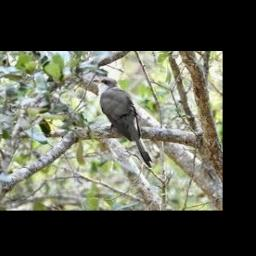Cuckoo: (94, 78, 152, 168)
